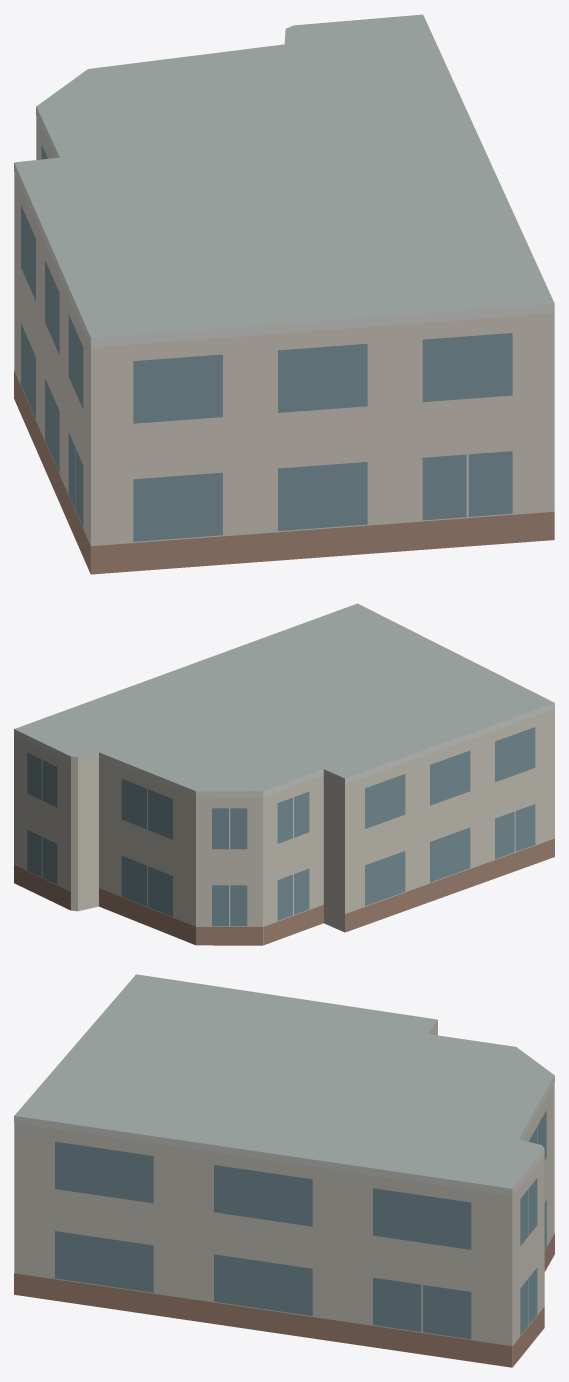
The model's file is survey-upis-32718966.glb.
3 renders of one model, top to bottom at view 1: azimuth 30°, elevation 25°; view 2: azimuth 150°, elevation 25°; view 3: azimuth 270°, elevation 25°, orthographic. The views are drawn at different scales.
Visible parts, largest first — view 1: survey-upis-32718966.tmp; view 2: survey-upis-32718966.tmp; view 3: survey-upis-32718966.tmp.
Boxes of the visible parts, bbox=[...] form: survey-upis-32718966.tmp: bbox=[14, 14, 554, 574]; survey-upis-32718966.tmp: bbox=[14, 603, 554, 945]; survey-upis-32718966.tmp: bbox=[14, 974, 554, 1367].
Bounding box in the file's own units: 15.7 × 6.1 × 16.72.
